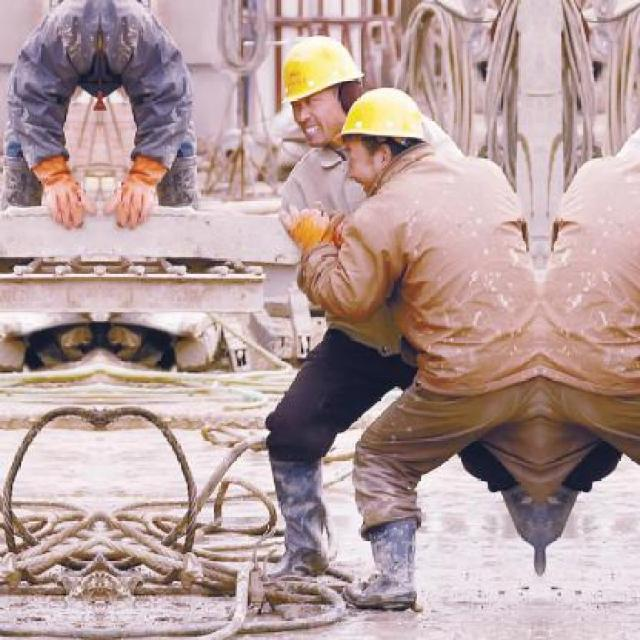helmet: (325, 82, 438, 198), (271, 30, 369, 148)
